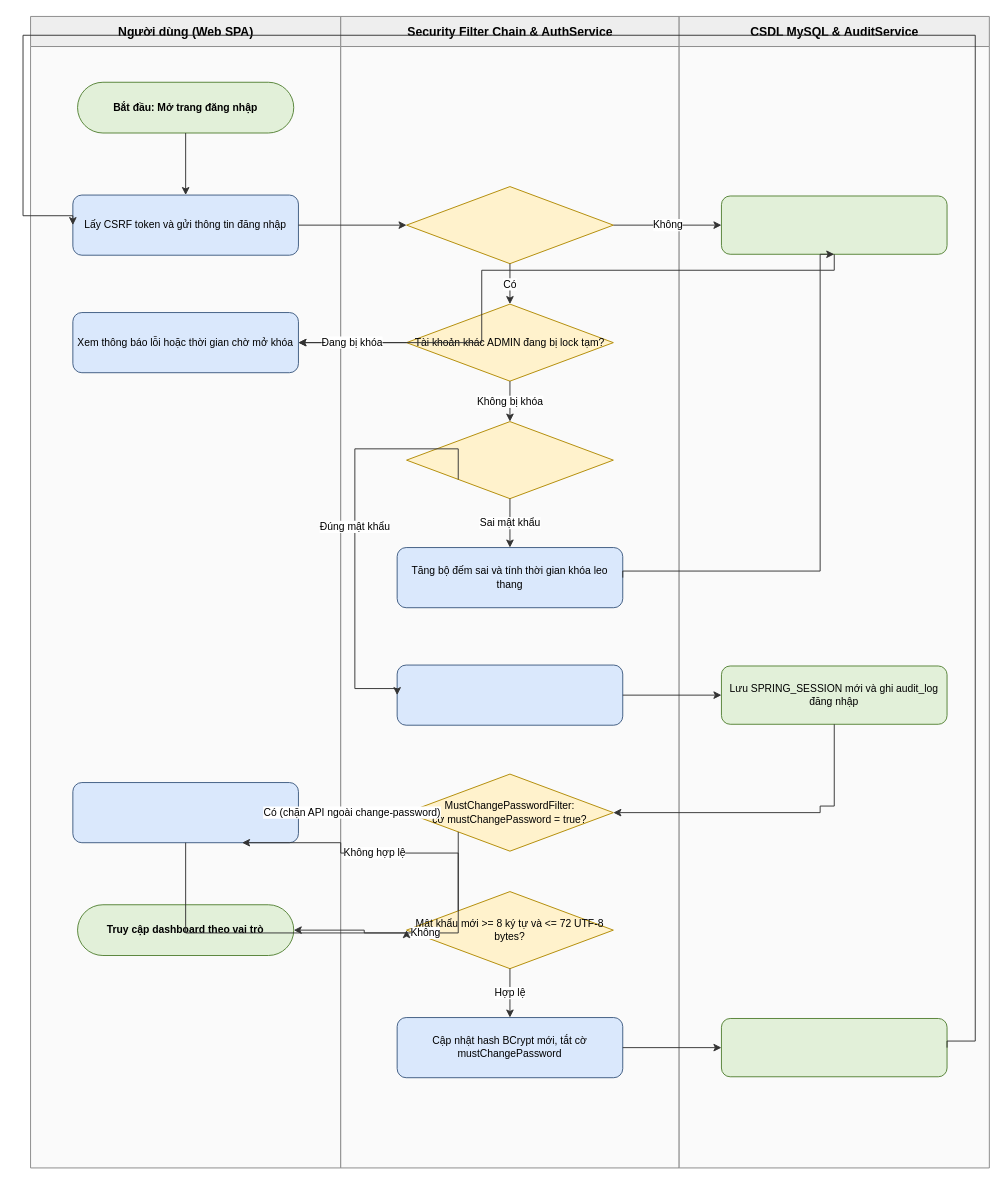
The diagram is 1006 pixels wide and 1184 high, and some of its shapes have lost their labels. Here are the shapes that lost their labels. From the top down, the centre of each, then its label:
pixel 509 225: Tài khoản tồn tại và đang active?
pixel 834 224: Ghi audit_log thất bại và lưu locked_until
pixel 509 460: Mật khẩu khớp BCrypt?
pixel 509 694: Reset bộ đếm sai, xoay Session ID và gắn SecurityContext
pixel 185 812: Nhập mật khẩu cũ và mật khẩu mới
pixel 834 1047: Xóa toàn bộ SPRING_SESSION của user và ghi audit_log
